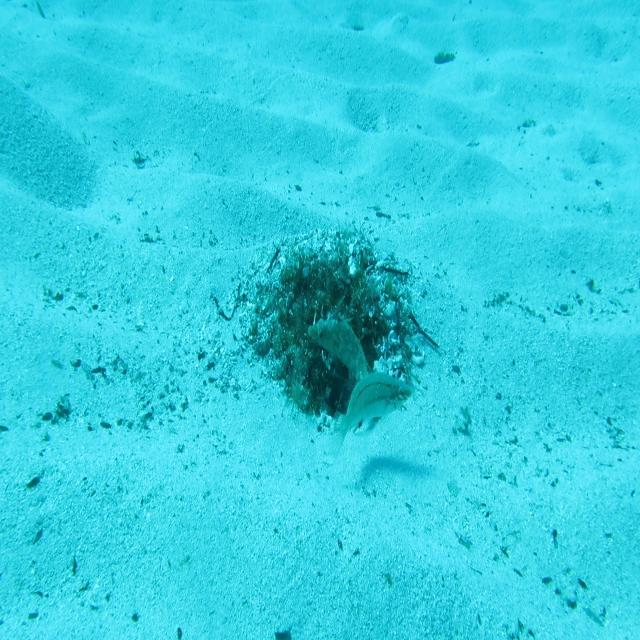BK_SW: (307, 310, 374, 434)
core_nest: (302, 272, 347, 301)
female: (328, 368, 415, 456)
nest: (232, 216, 430, 447)
vegetation: (434, 49, 456, 68)
